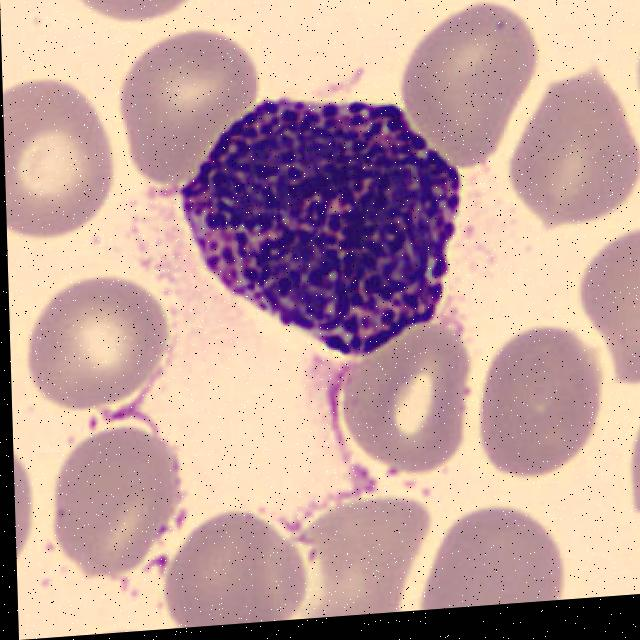basophil: (172, 84, 465, 372)
rbc: (389, 0, 533, 171), (45, 419, 182, 595), (497, 68, 640, 236), (21, 267, 175, 422), (2, 70, 119, 263), (478, 319, 610, 486), (111, 35, 245, 193), (142, 500, 301, 630), (336, 336, 470, 488), (416, 496, 587, 610), (283, 493, 425, 620), (568, 228, 640, 397), (54, 0, 207, 36), (615, 402, 640, 536), (13, 434, 34, 566), (354, 0, 491, 12), (235, 0, 319, 10)
